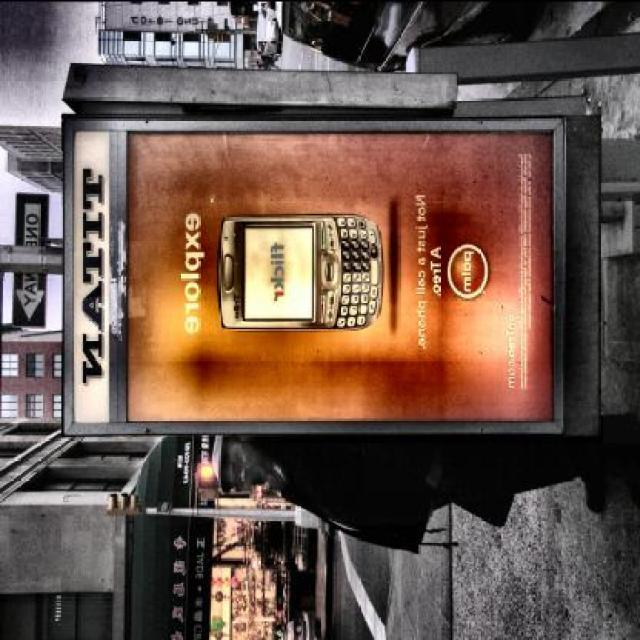phone: (206, 204, 390, 338)
